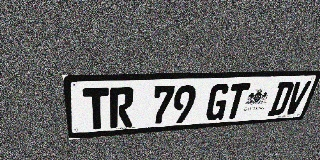7: (150, 85, 176, 125)
9: (171, 85, 197, 124)
D: (267, 81, 296, 116)
G: (204, 83, 232, 121)
R: (110, 87, 134, 128)
T: (83, 88, 109, 130), (223, 83, 251, 119)
V: (283, 81, 312, 115)
